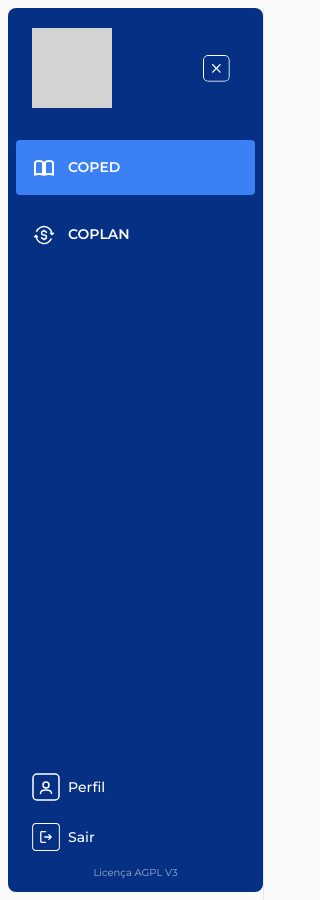
Scenario: <AppSidebar /> › renderiza corretamente quando a sidebar está fechada e abre ao clicar no ícone de hamburguer
Click the button with test id "icon-close" at (217,68), box [194,46,239,90]
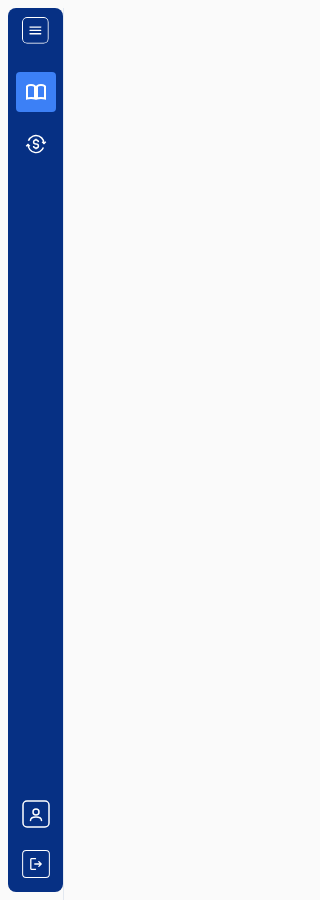
Click the button with test id "icon-open" at (36,30), box [21,16,50,45]
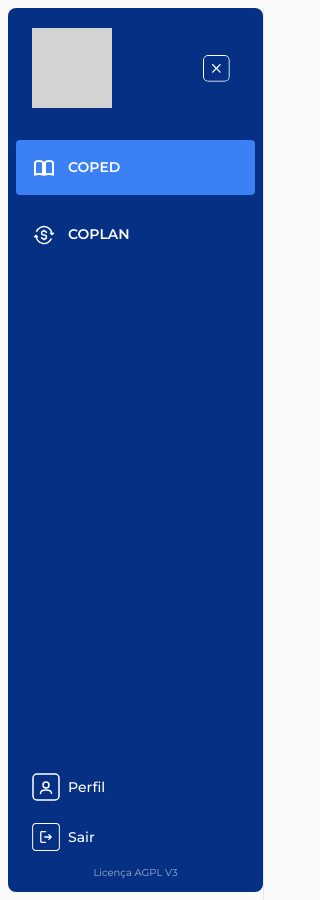
Expected: the text "COPED" is shown, [68,159,120,176]
